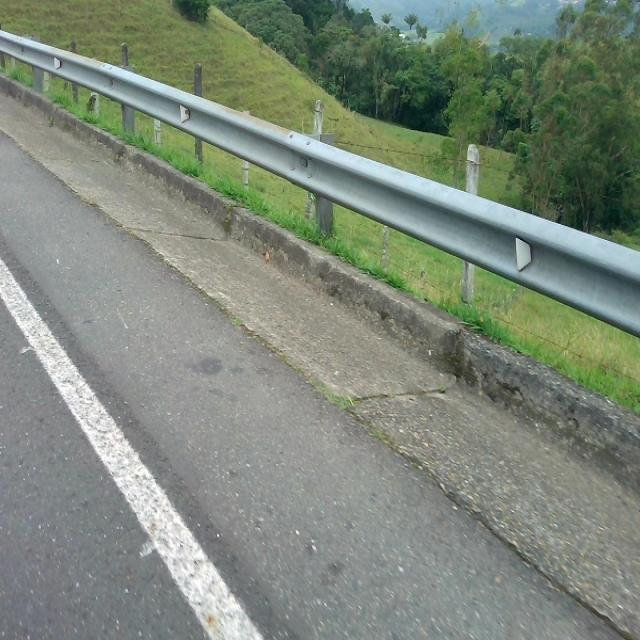DITCH: (1, 74, 638, 637), (1, 135, 638, 638)
